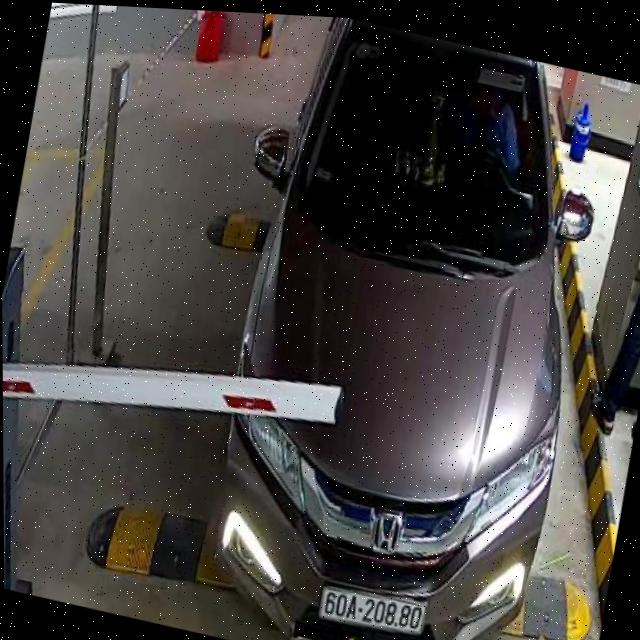car: (172, 9, 630, 640)
plate: (317, 581, 426, 640)
